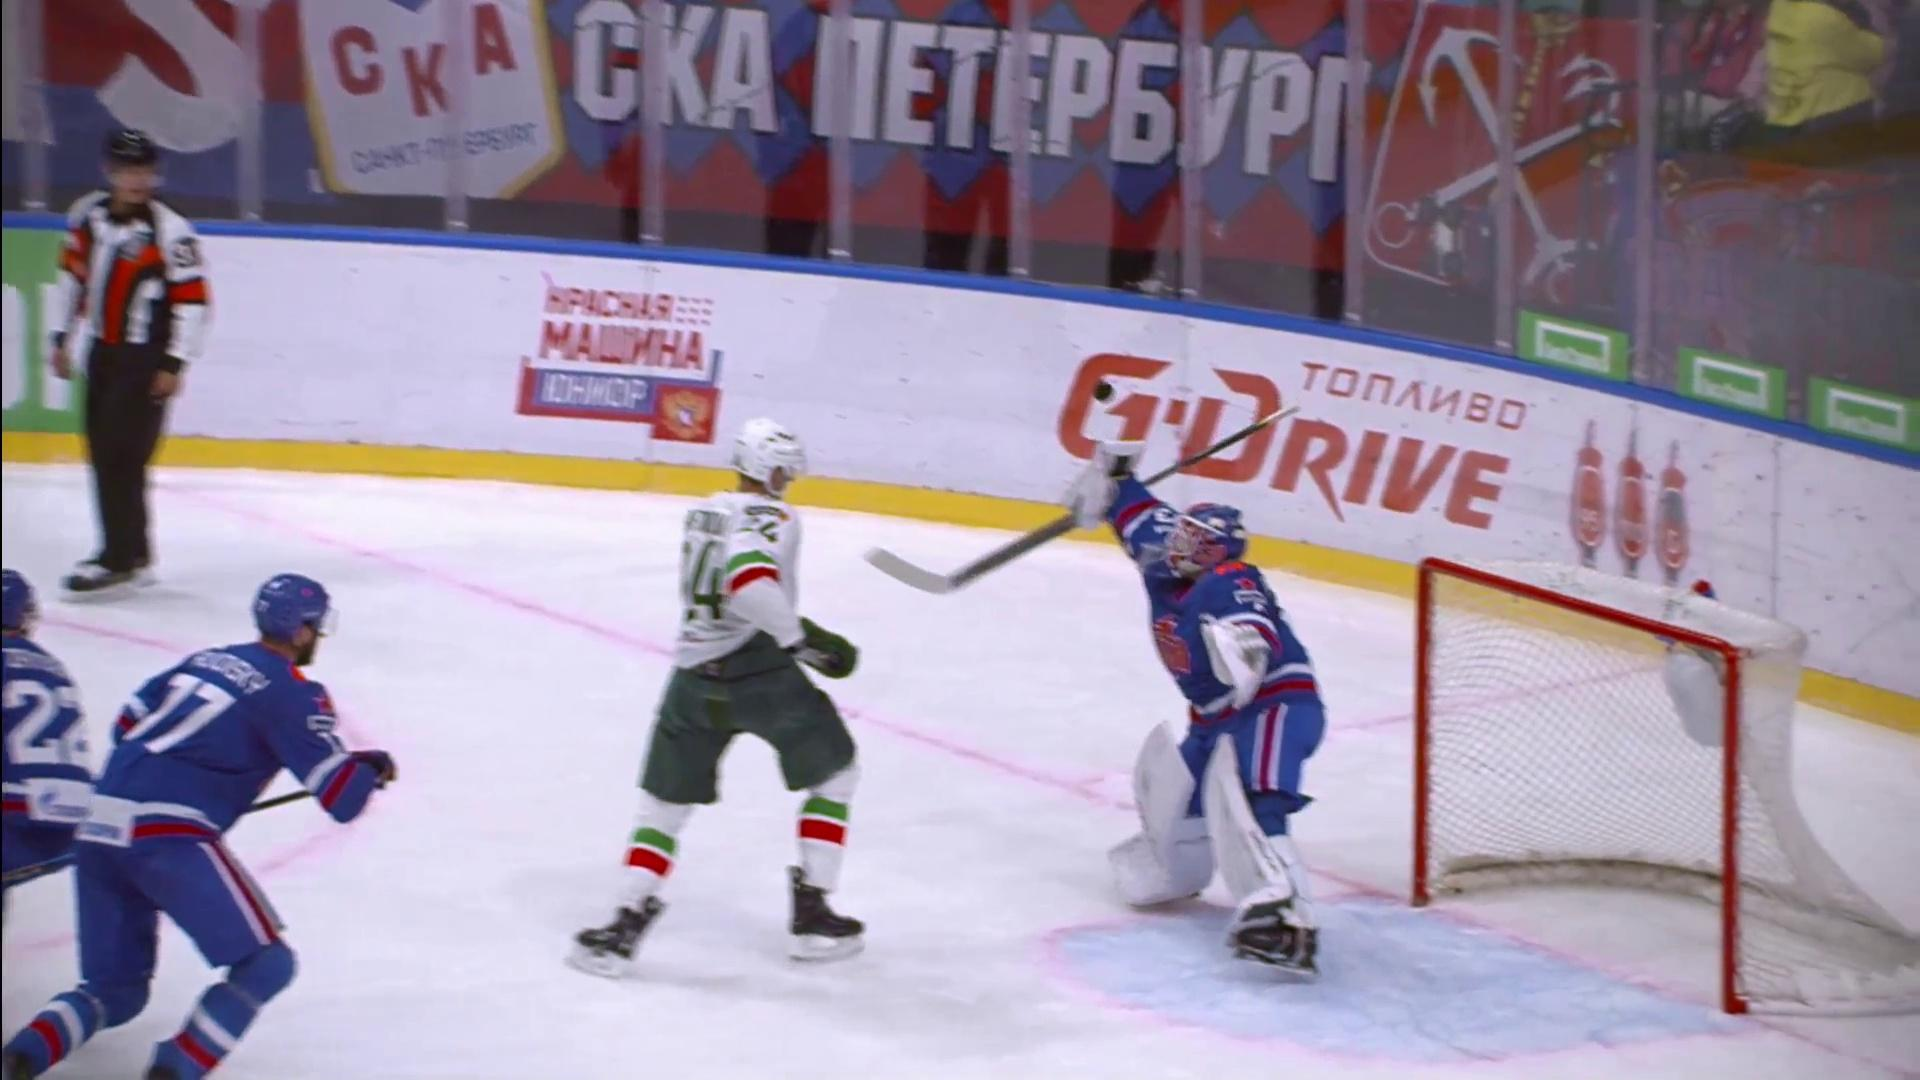ball: (1093, 382, 1116, 402)
